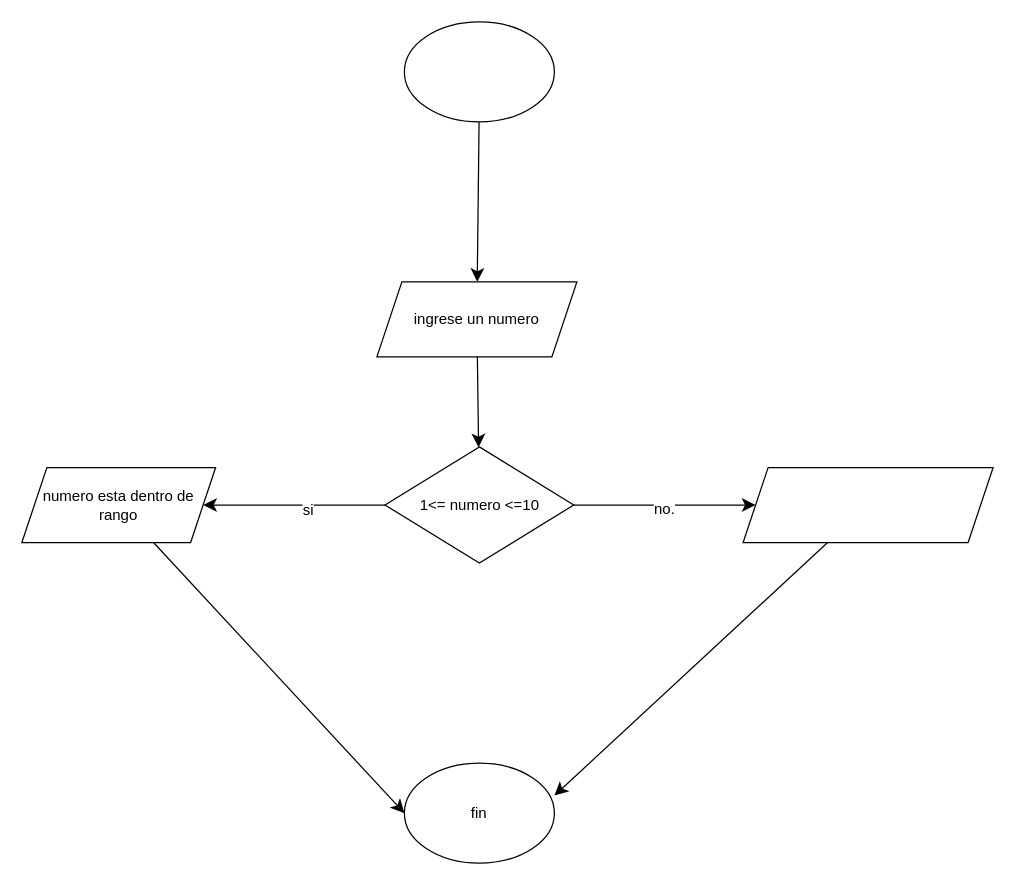
This 1015x885 diagram has some shape labels left out. The centre of each missing label's shape, as x and y in pixels:
inicio: pixel 478 71
no esta dentro de rango: pixel 867 504
